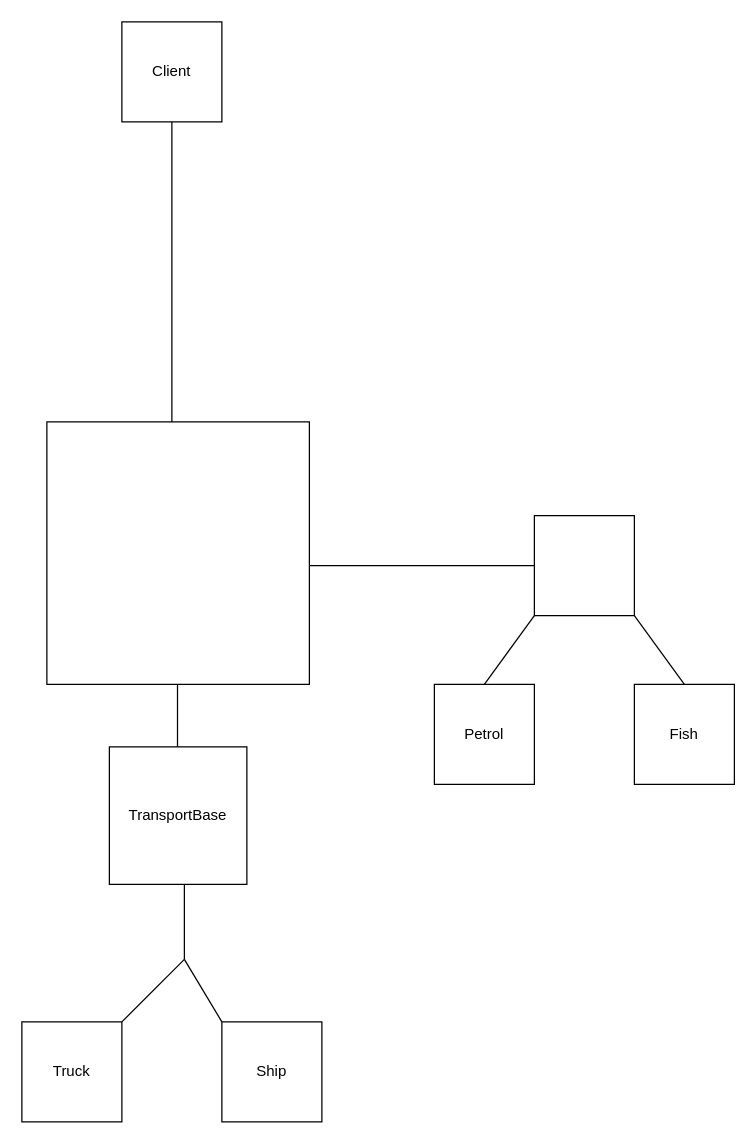
Some shapes in this 756 by 1144 pixel diagram are drawn without their labels. Each missing label, with the centre of its shape:
"IProduct" belongs at point 583,565.
"ITransport" belongs at point 177,552.
